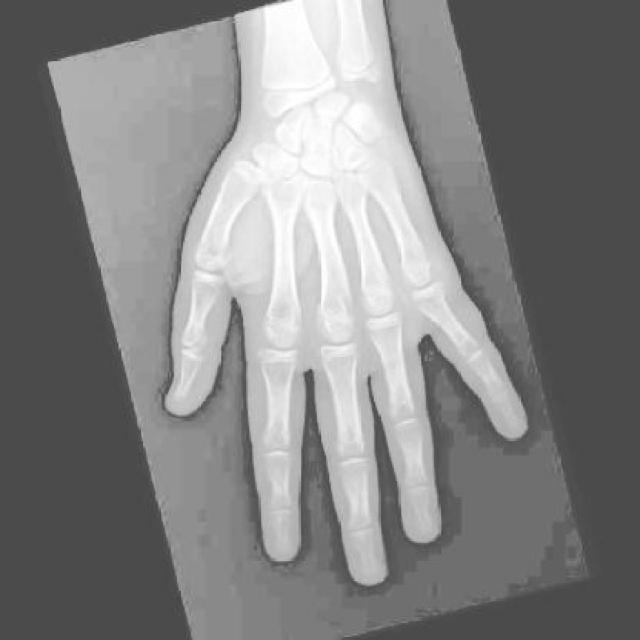Fracture: (414, 285, 456, 319)
